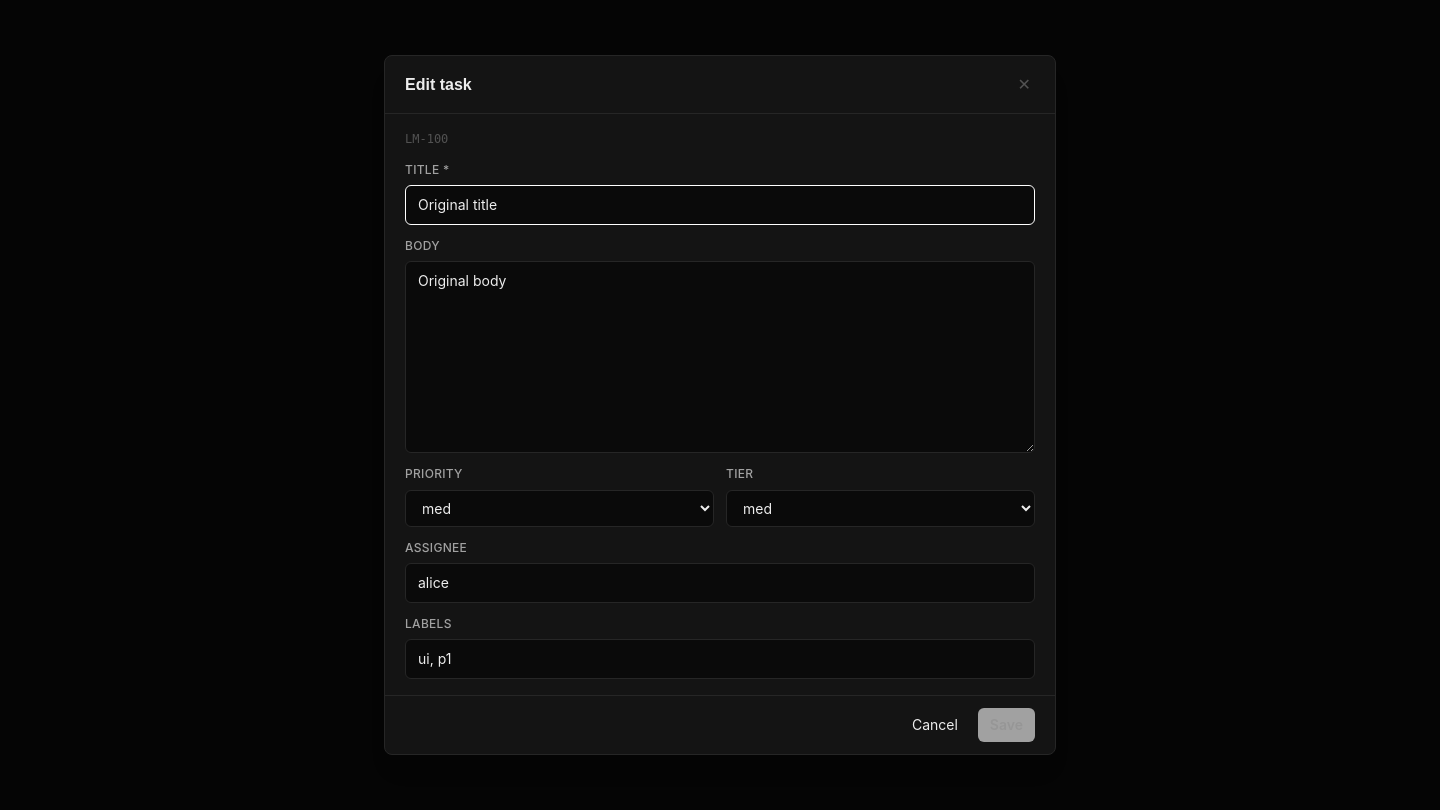
Test: TaskEditModal › surfaces daemon errors
Replace the text in the field with test id "task-edit-title" with "x" at (720,205), box [405,185,1035,225]
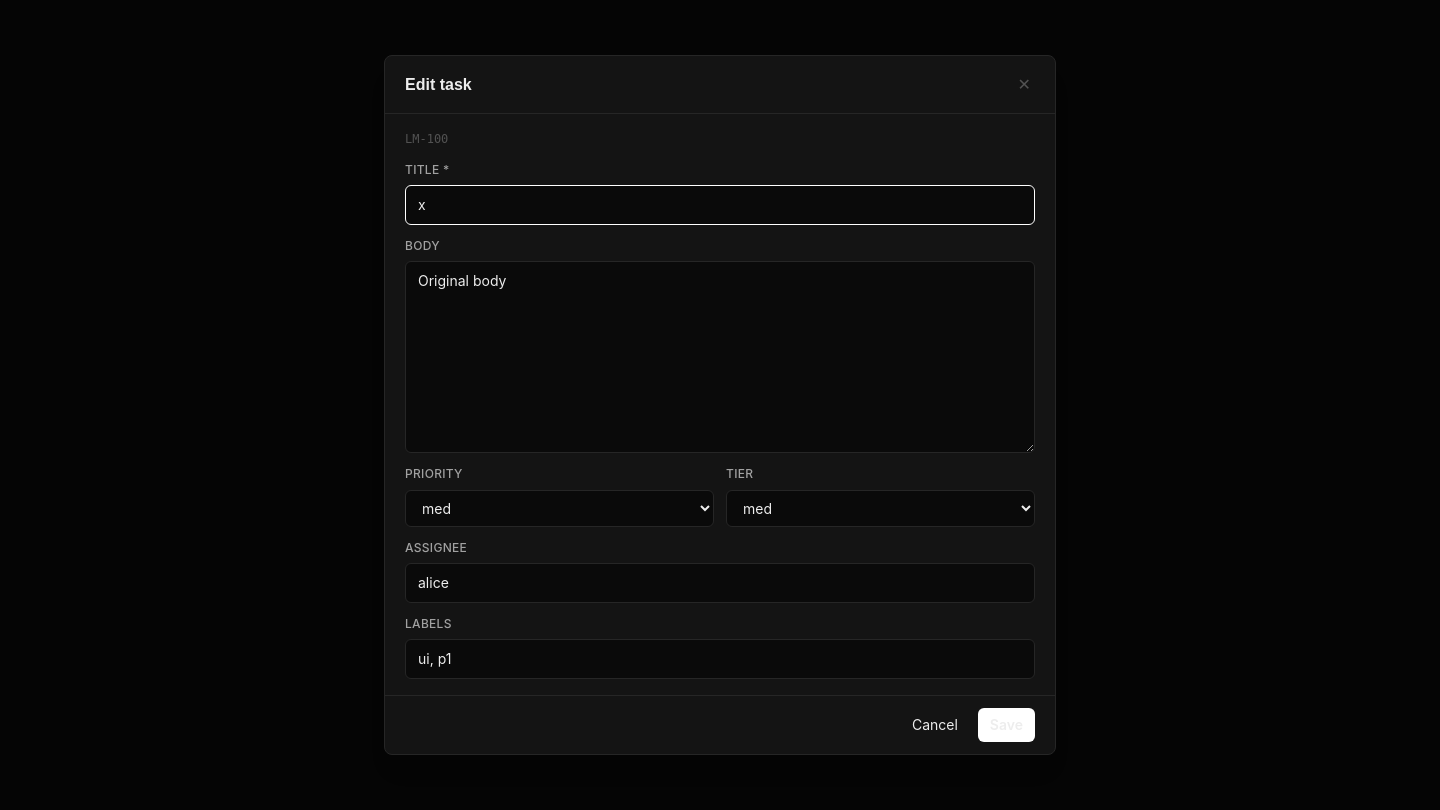
Click the button with test id "task-edit-submit" at (1006,725), box [978,708,1035,742]
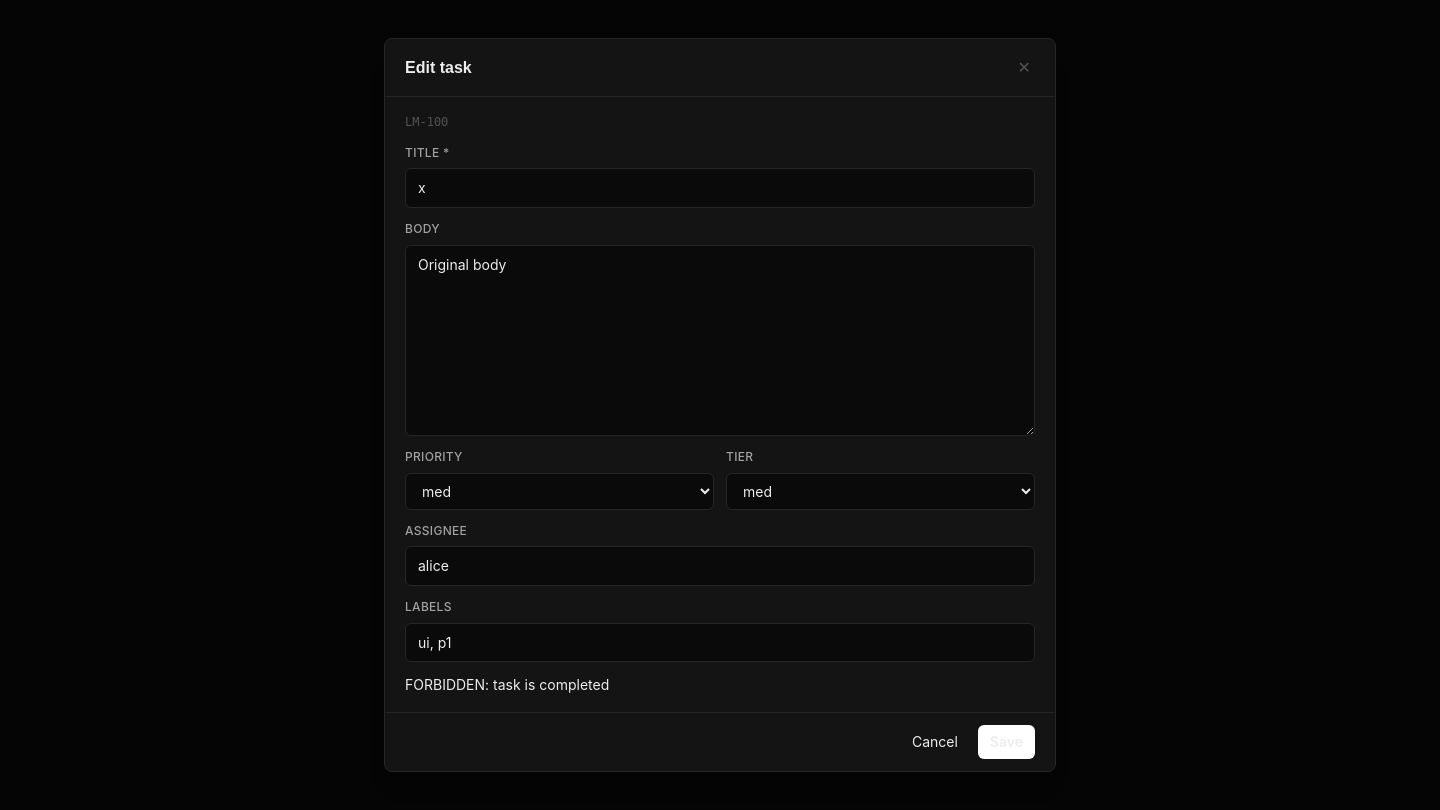
Result: the message with test id "task-edit-error" reads "FORBIDDEN: task is completed" at [405,676,609,693]
